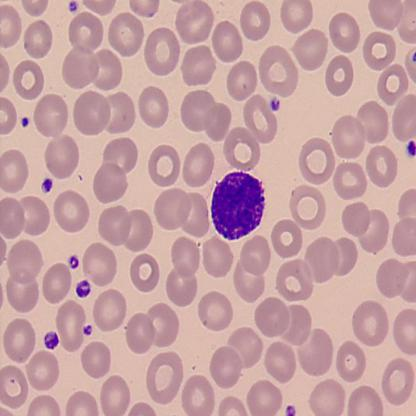Basophil: (207, 167, 268, 241)
